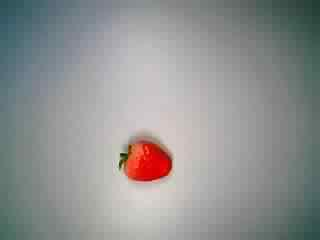strawberry: (110, 130, 176, 192)
